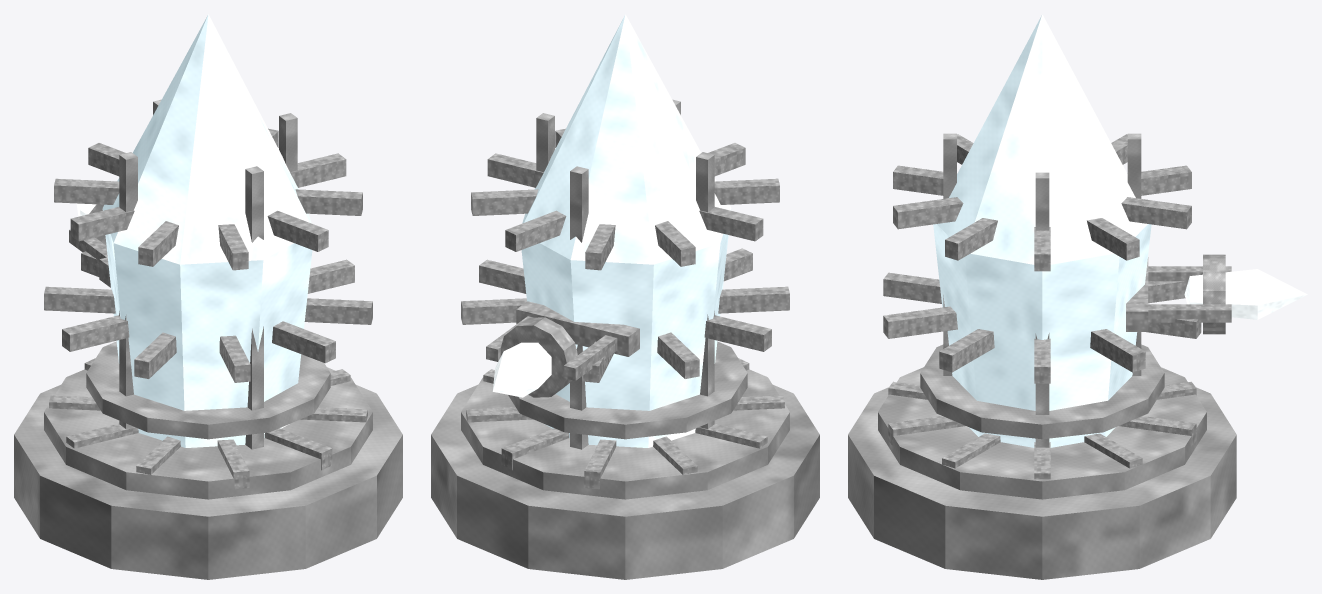
Rendered from crystal-sentinel.glb.
3 views of the same model, side by side, from view 1: azimuth 30°, elevation 25°; view 2: azimuth 150°, elevation 25°; view 3: azimuth 270°, elevation 25° (orthographic).
Visible parts, largest first — view 1: sentinel-crystal, base-plinth, lower-ring, upper-ring, iron-spine-1, iron-spine-2, band-middle-6, band-middle-1, band-middle-5, band-middle-2, band-upper-6, band-upper-1 (+17 smaller); view 2: sentinel-crystal, base-plinth, lower-ring, upper-ring, forward-collar, forward-emitter, forward-yoke, iron-spine-3, iron-spine-2, band-middle-4, band-middle-5, band-upper-4 (+19 smaller); view 3: sentinel-crystal, base-plinth, lower-ring, upper-ring, forward-emitter, band-middle-2, band-upper-2, band-upper-8, forward-rail-right, iron-spine-0, forward-collar, band-middle-9 (+19 smaller).
Part boxes in pixels (x1,y1,x2,y2): sentinel-crystal: (102, 14, 312, 447); base-plinth: (14, 385, 402, 579); lower-ring: (44, 367, 372, 499); upper-ring: (86, 341, 330, 439); iron-spine-1: (245, 166, 263, 449); iron-spine-2: (119, 152, 137, 428); band-middle-6: (44, 286, 115, 313); band-middle-1: (304, 298, 372, 324); band-middle-5: (62, 315, 129, 351); band-middle-2: (272, 321, 335, 363); band-upper-6: (54, 178, 119, 204); band-upper-1: (295, 189, 362, 215); sentinel-crystal: (521, 14, 731, 447); base-plinth: (431, 385, 819, 579); lower-ring: (461, 369, 789, 499); upper-ring: (508, 341, 747, 439); forward-collar: (501, 317, 577, 397); forward-emitter: (492, 342, 551, 397); forward-yoke: (516, 301, 639, 356); iron-spine-3: (570, 166, 588, 449); iron-spine-2: (696, 152, 714, 428); band-middle-4: (718, 286, 789, 313); band-middle-5: (704, 315, 771, 351); band-upper-4: (714, 178, 779, 204); sentinel-crystal: (933, 14, 1151, 447); base-plinth: (848, 387, 1236, 579); lower-ring: (878, 367, 1206, 499); upper-ring: (920, 344, 1164, 439); forward-emitter: (1184, 269, 1307, 319); band-middle-2: (883, 306, 957, 338); band-upper-2: (893, 197, 963, 229); band-upper-8: (1121, 197, 1191, 229); forward-rail-right: (1148, 304, 1231, 322); iron-spine-0: (1035, 172, 1049, 447); forward-collar: (1203, 254, 1225, 334); band-middle-9: (1090, 329, 1145, 372).
Bounding box in the file's own units: 1.56 × 2.24 × 1.85.
4 materials, 4 textured.
